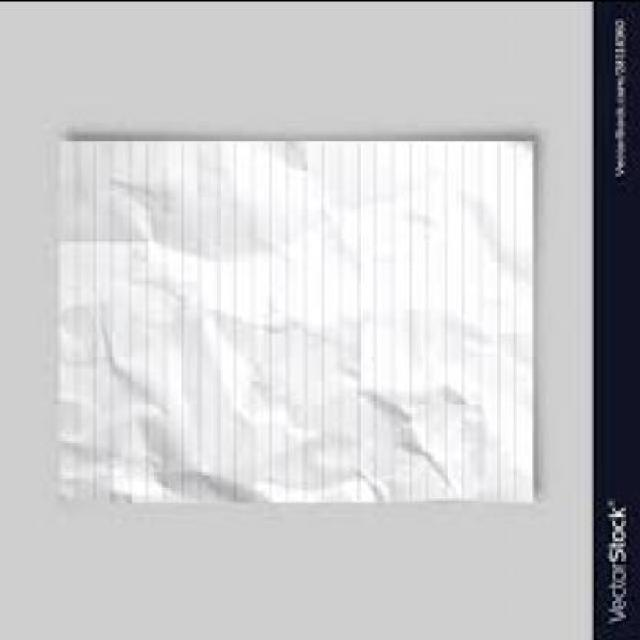PAPER: (53, 134, 530, 506)
